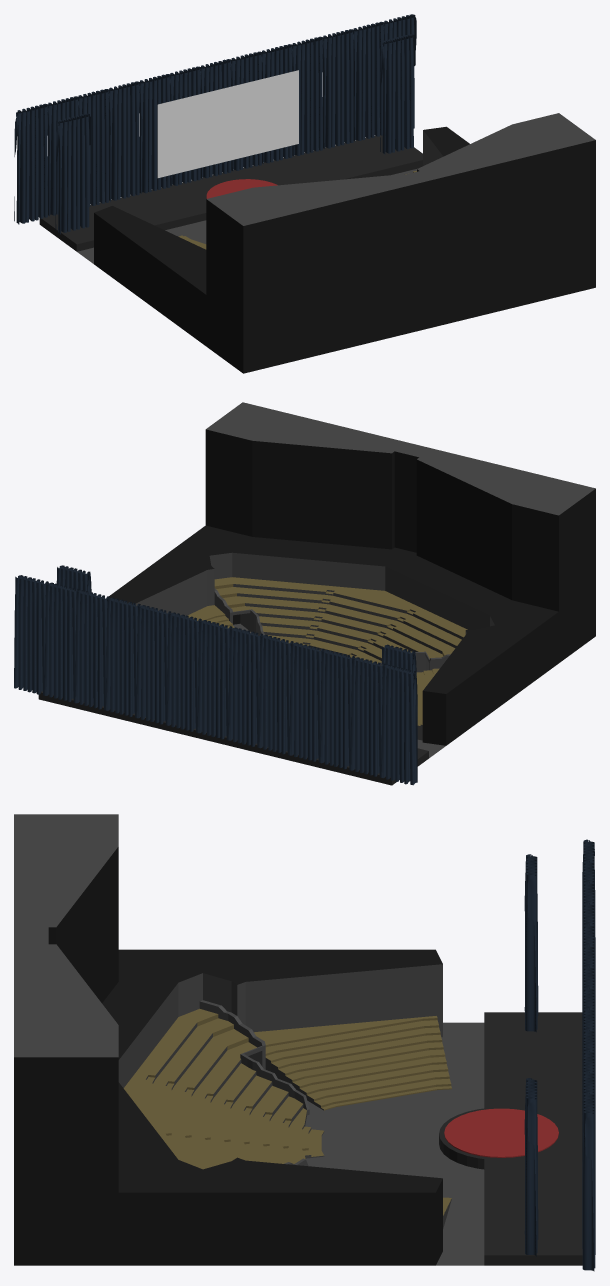
The model's file is Stage_Medium.fbx.
3 renders of one model, top to bottom at view 1: azimuth 30°, elevation 25°; view 2: azimuth 150°, elevation 25°; view 3: azimuth 270°, elevation 25°, orthographic. The views are drawn at different scales.
Visible parts, largest first — view 1: Base, Screen, Curtain_Static.011, Curtain_Static.013, Curtain_Static.012, Curtain_Static.005, Curtain_Static.006, Curtain_Static.010, Curtain_Static.003, Curtain_Static.008, Curtain_Static.007, Curtain_Static.014 (+5 smaller); view 2: Base, Curtain_Static.012, Curtain_Static.005, Curtain_Static.006, Curtain_Static.014, Curtain_Static.009, Curtain_Static.002, Curtain_Static.008, Curtain_Static.000, Curtain_Static.003, Curtain_Static.001, Curtain_Static.007 (+4 smaller); view 3: Base, Curtain_Static.009, Curtain_Static.011, Curtain_Static.013.
Boxes of the visible parts, left/top/right/bottom form: Base: left=39, top=113, right=595, bottom=373; Screen: left=157, top=70, right=298, bottom=177; Curtain_Static.011: left=55, top=113, right=91, bottom=234; Curtain_Static.013: left=380, top=34, right=415, bottom=154; Curtain_Static.012: left=14, top=103, right=49, bottom=224; Curtain_Static.005: left=322, top=29, right=354, bottom=149; Curtain_Static.006: left=108, top=81, right=140, bottom=201; Curtain_Static.010: left=352, top=21, right=384, bottom=142; Curtain_Static.003: left=291, top=36, right=324, bottom=156; Curtain_Static.008: left=138, top=74, right=171, bottom=194; Curtain_Static.007: left=77, top=89, right=110, bottom=206; Curtain_Static.014: left=47, top=96, right=79, bottom=216; Base: left=38, top=402, right=595, bottom=785; Curtain_Static.012: left=381, top=664, right=417, bottom=785; Curtain_Static.005: left=75, top=590, right=109, bottom=710; Curtain_Static.006: left=289, top=642, right=324, bottom=762; Curtain_Static.014: left=350, top=657, right=385, bottom=777; Curtain_Static.009: left=14, top=575, right=48, bottom=695; Curtain_Static.002: left=167, top=612, right=201, bottom=732; Curtain_Static.008: left=258, top=635, right=293, bottom=755; Curtain_Static.000: left=197, top=620, right=232, bottom=740; Curtain_Static.003: left=106, top=597, right=140, bottom=717; Curtain_Static.001: left=228, top=627, right=263, bottom=747; Curtain_Static.007: left=320, top=650, right=354, bottom=770; Base: left=14, top=814, right=582, bottom=1265; Curtain_Static.009: left=582, top=1092, right=595, bottom=1271; Curtain_Static.011: left=524, top=854, right=538, bottom=1032; Curtain_Static.013: left=524, top=1078, right=538, bottom=1256.
Bounding box in the file's own units: 5655 × 2000 × 5061.
